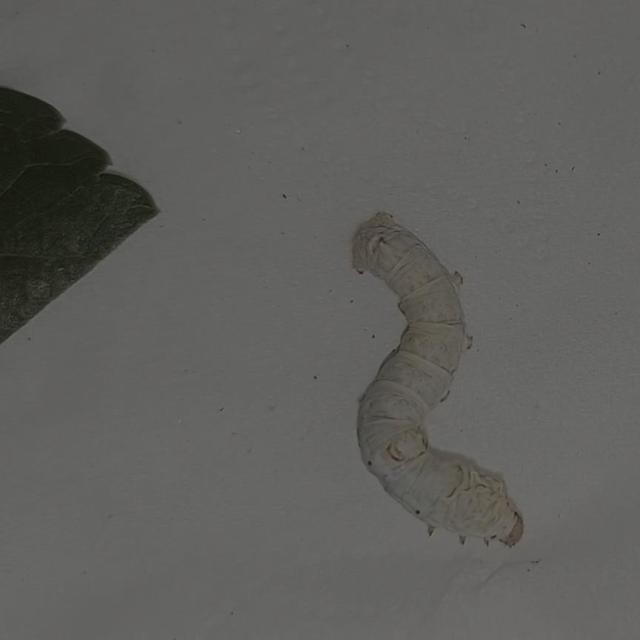Healthy: (300, 181, 544, 583)
